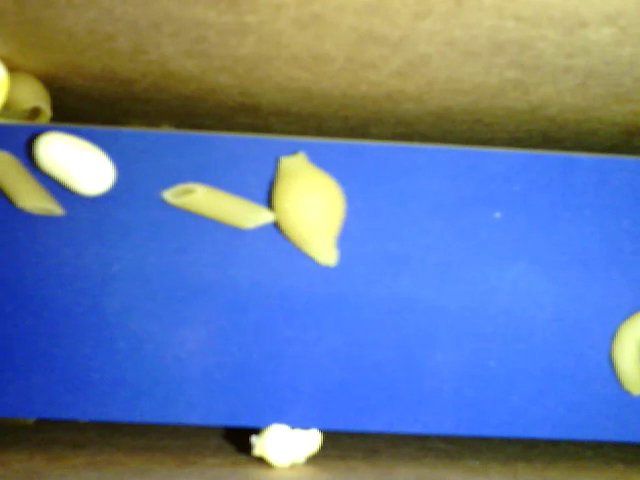penne: (159, 183, 279, 233), (1, 149, 69, 220)
shell: (268, 153, 349, 266), (2, 69, 53, 128)
